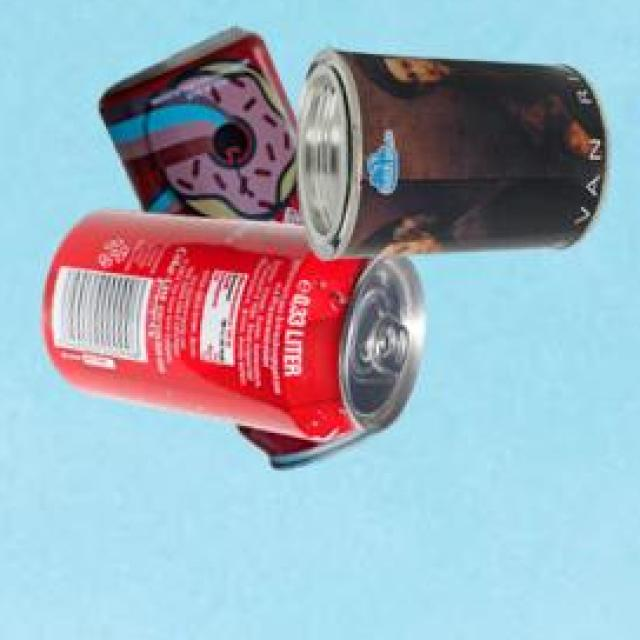logam: (39, 206, 422, 436), (95, 25, 299, 344), (295, 46, 606, 255)
